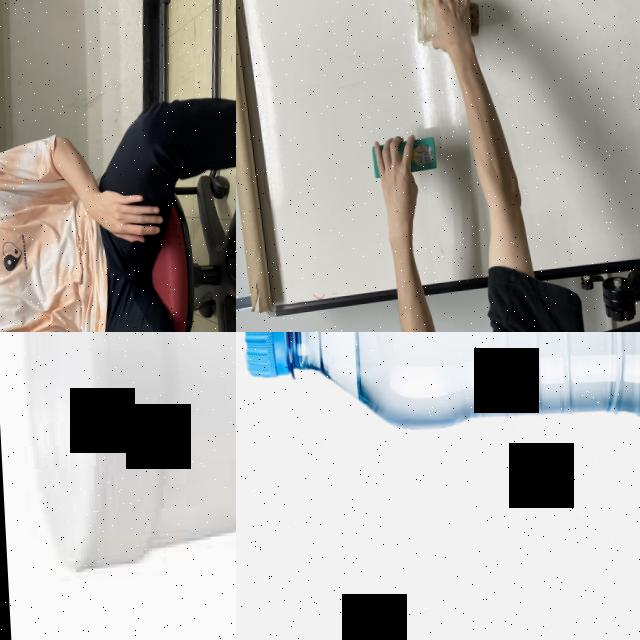bottle: (236, 332, 640, 449)
cup: (7, 332, 236, 586), (414, 0, 482, 48)
